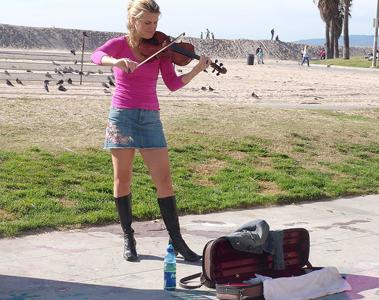person: (92, 2, 213, 263)
